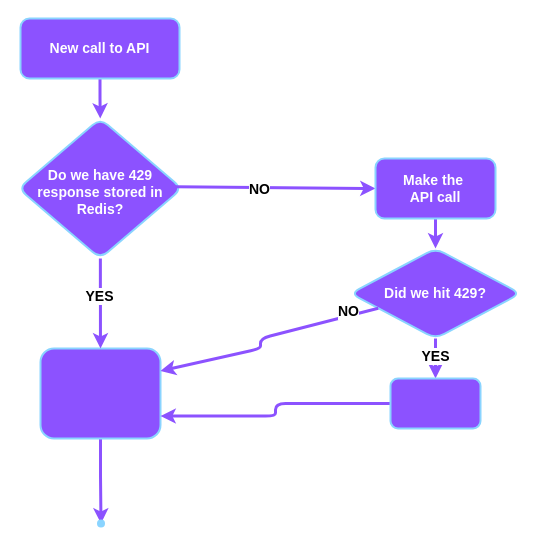
This 538x551 diagram has some shape labels left out. The centre of each missing label's shape, as x and y in pixels:
Return response: [100,393]
Store response: [435,403]
